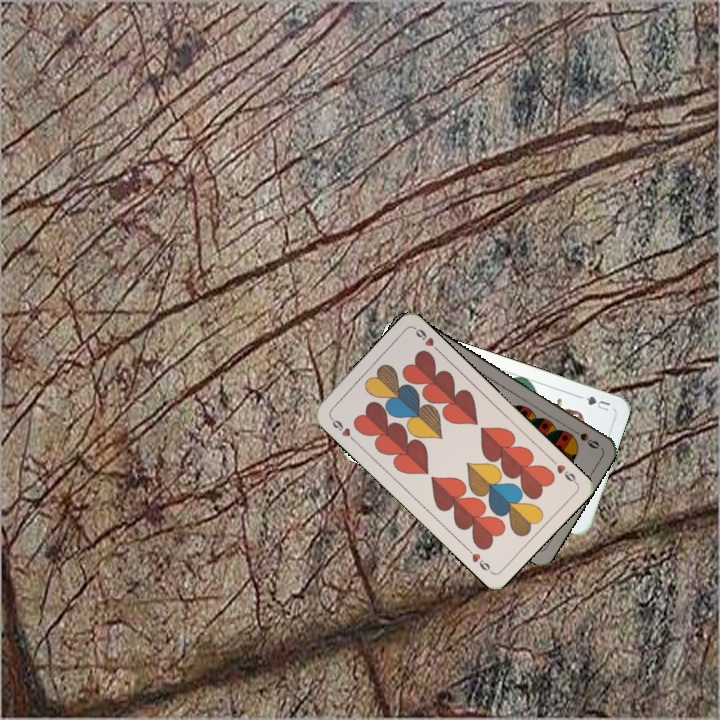GU: (575, 392, 613, 415)
H9: (326, 412, 359, 445), (547, 455, 580, 486)
S9: (566, 424, 602, 452)
